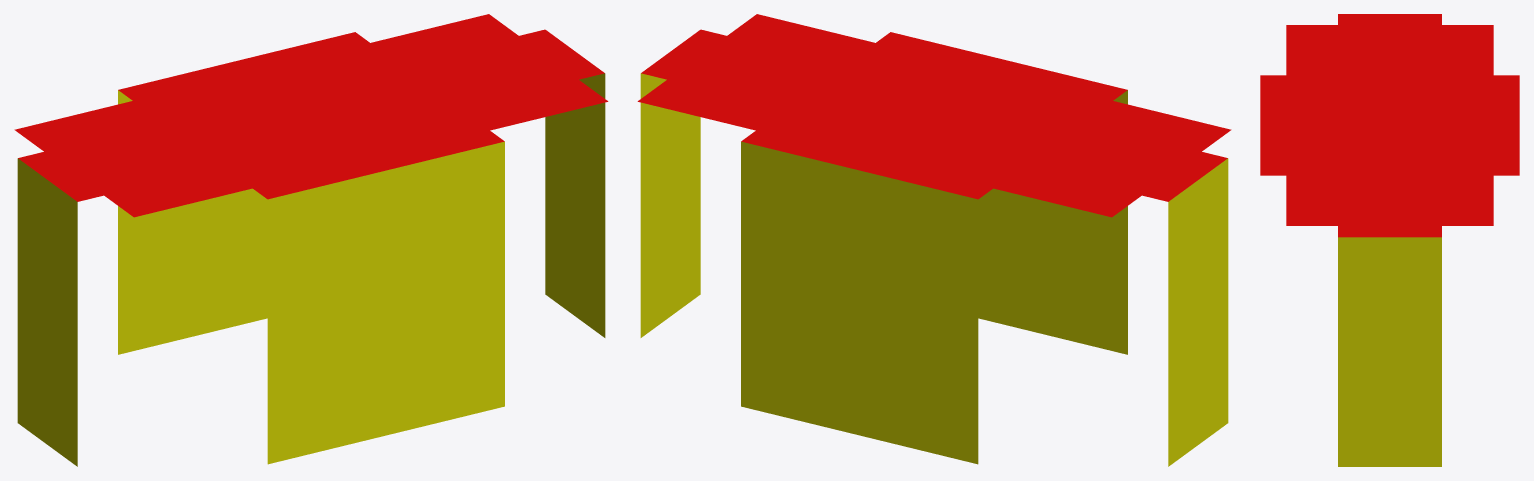
Rendered from frogPlatformWater_MESH.fbx.
3 views of the same model, side by side, from view 1: azimuth 30°, elevation 25°; view 2: azimuth 150°, elevation 25°; view 3: azimuth 270°, elevation 25° (orthographic). The views are drawn at different scales.
Parts seen in each view (by area): view 1: pCube9; view 2: pCube9; view 3: pCube9.
Boxes of the visible parts, bbox=[...] form: pCube9: bbox=[14, 14, 608, 466]; pCube9: bbox=[637, 14, 1231, 466]; pCube9: bbox=[1260, 14, 1519, 466].
Bounding box in the file's own units: 83.52 × 40.09 × 41.04.
